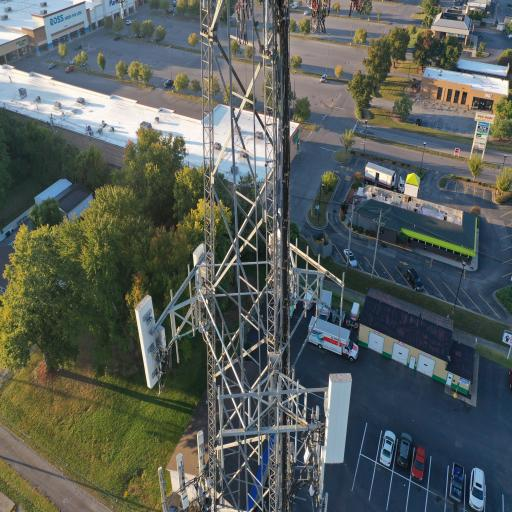supporting_tower: (146, 0, 346, 512)
